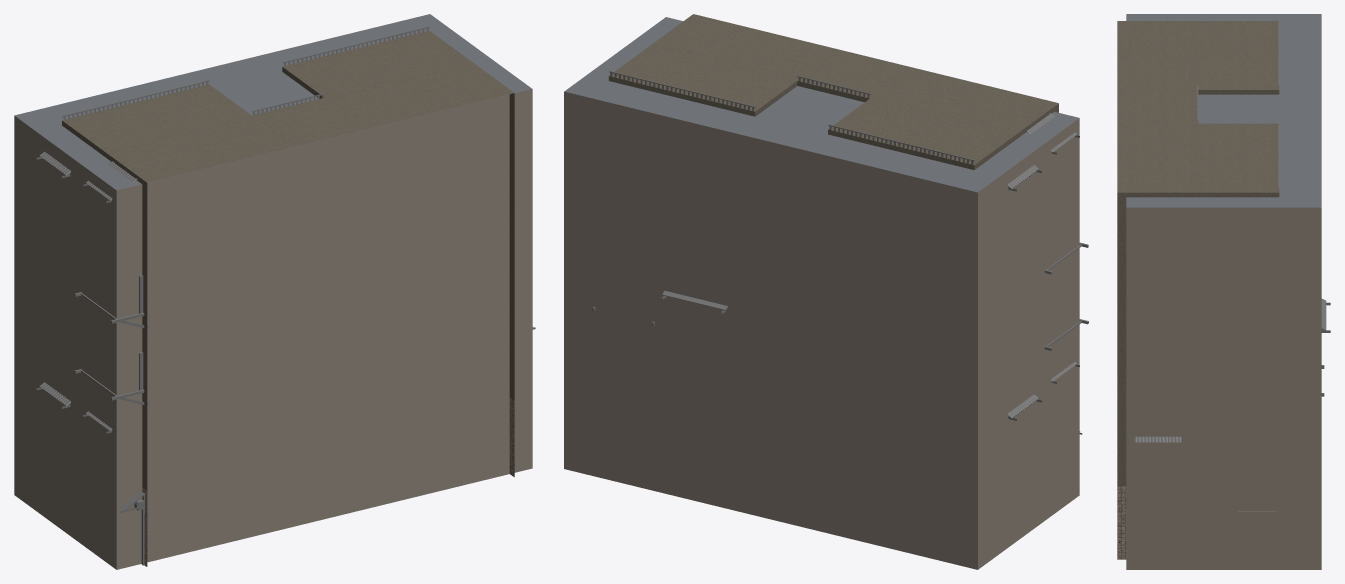
Rendered from bldg_07_brown_stucco.glb.
3 renders of one model, left to right at view 1: azimuth 30°, elevation 25°; view 2: azimuth 150°, elevation 25°; view 3: azimuth 270°, elevation 25°, orthographic. The views are drawn at different scales.
Visible parts, largest first — view 1: bldg_07_brown_stucco; view 2: bldg_07_brown_stucco; view 3: bldg_07_brown_stucco.
Part boxes in pixels (x1,y1,x2,y2): bldg_07_brown_stucco: [14, 14, 535, 569]; bldg_07_brown_stucco: [564, 14, 1088, 569]; bldg_07_brown_stucco: [1117, 14, 1330, 569].
Bounding box in the file's own units: 11.77 × 10.13 × 5.27.
Materials: 7 (5 with a texture image).
